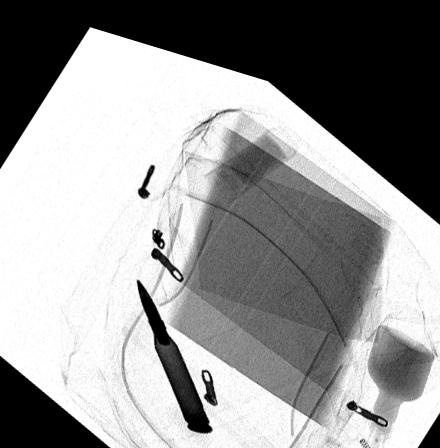Bullet: (134, 268, 212, 421)
